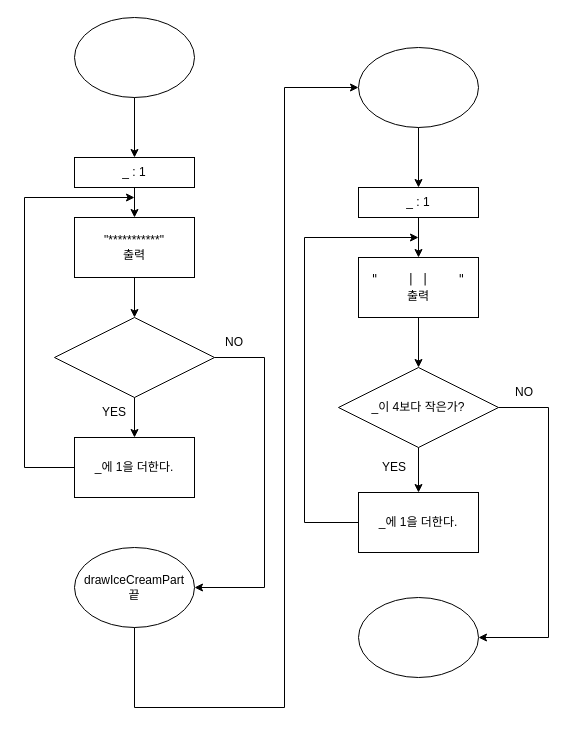
Some shapes in this 574 by 733 pixel diagram are drawn without their labels. The centre of each missing label's shape, as x and y in pixels:
_이 8보다 작은가?: point 134,357
drawBarPart 끝: point 418,637
drawBarPart 시작: point 418,87
drawIceCreamPart 시작: point 134,57
